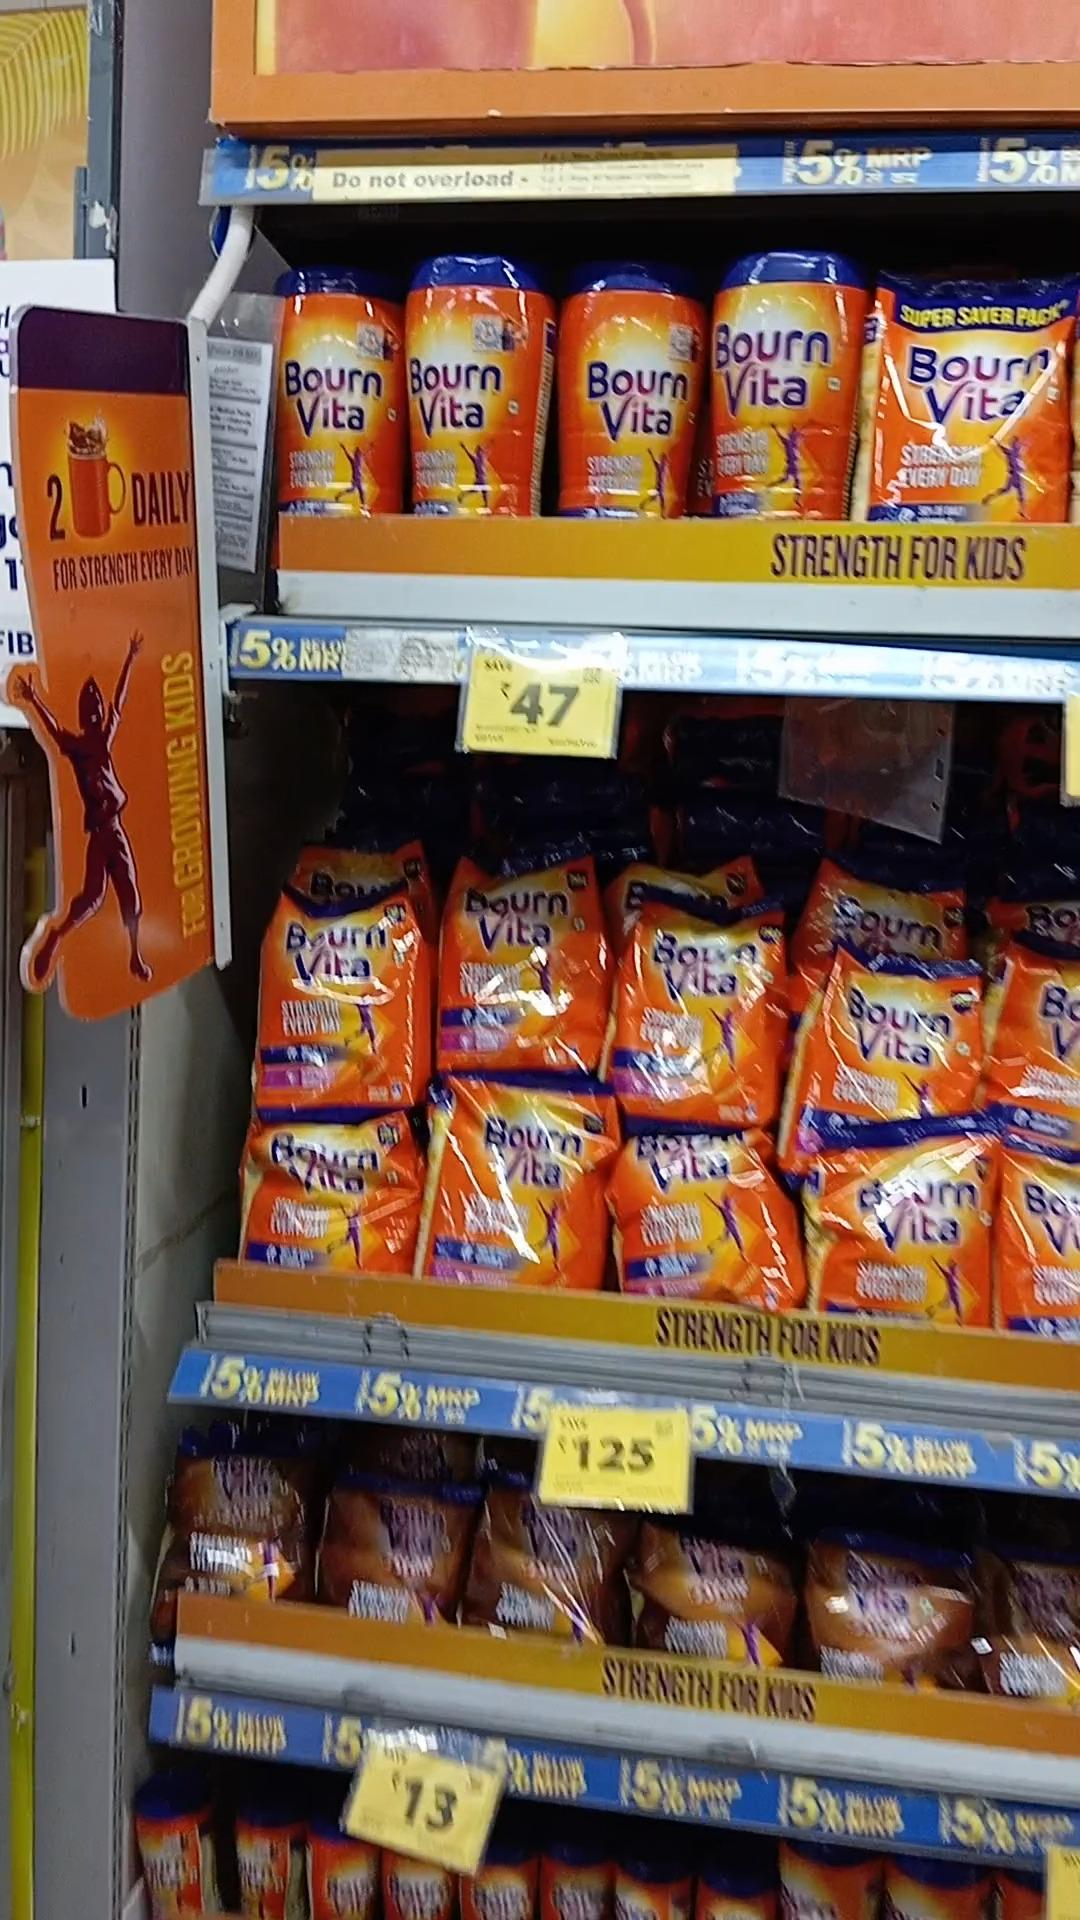BOURN_VITA_750_G_POUCH: (430, 1075, 599, 1298), (628, 887, 785, 1120), (444, 848, 597, 1063), (261, 893, 410, 1113), (827, 1130, 984, 1325), (612, 1129, 778, 1307), (819, 955, 981, 1112), (243, 1125, 409, 1276)
BOURN_VITA_FIVE_STAR_MAGIC_500_G_POUCH: (803, 1536, 955, 1683), (166, 1444, 307, 1601), (638, 1527, 785, 1663), (484, 1478, 605, 1640), (336, 1484, 463, 1626)
